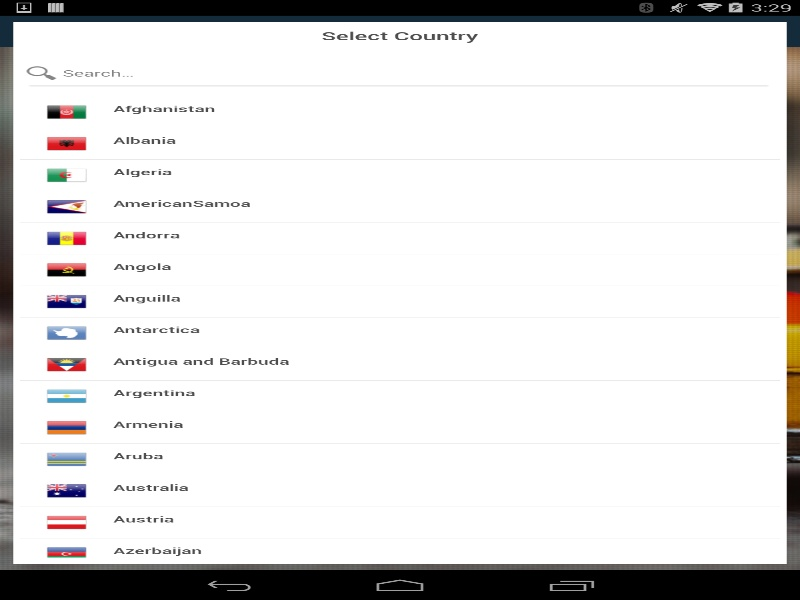Input: (20, 59, 780, 87)
